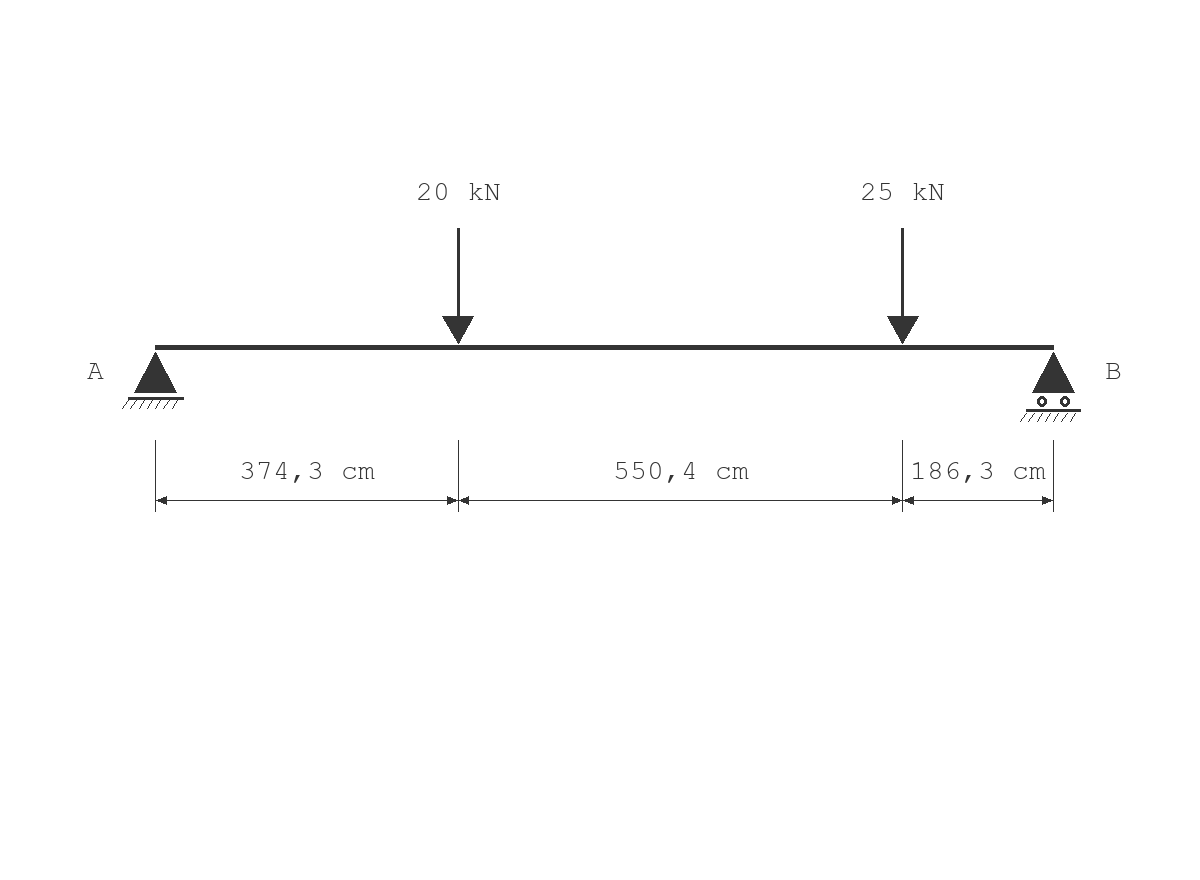pin_support: (122, 352, 184, 409)
point_load: (442, 228, 474, 344), (887, 228, 919, 344)
roller_support: (1020, 352, 1081, 422)
